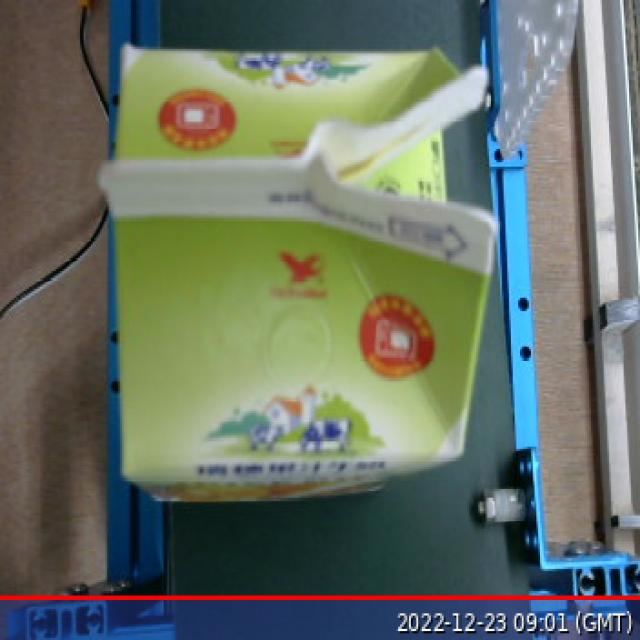non_white_jug: (87, 24, 513, 519)
